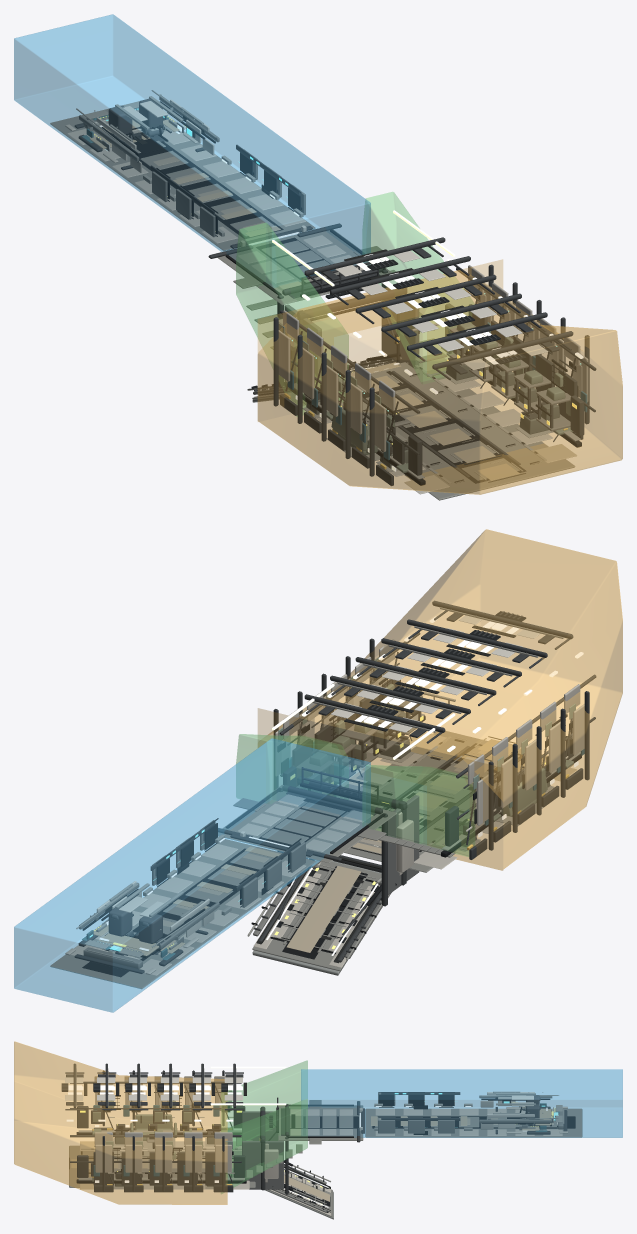
Rendered from prototype_shuttle_interior.glb.
3 renders of one model, top to bottom at view 1: azimuth 30°, elevation 25°; view 2: azimuth 150°, elevation 25°; view 3: azimuth 270°, elevation 25°, orthographic. The views are drawn at different scales.
Parts seen in each view (by area): view 1: VOLUME_LowerBellyCargoPrismaticEnvelope, VOLUME_RaisedForwardCockpitDeckEnvelope, VOLUME_LeftCargoToCockpitTransitionPrism, VOLUME_RightCargoToCockpitTransitionPrism, SDP1_CargoFloor_SolidDeckBase, SDP1_CockpitFloor_SolidDeckBase, SDP1_CockpitFloor_TransitionSolidDeck, SDP1_CargoFloor_SolidDeckCenterInsetBase, SDP1_CockpitFloor_SolidDeckCenterInsetBase, ForwardRampApertureRightFrame, SDP1_RampDoor_UpperLintel, SDP1_CargoCeiling_CrossRib_04 (+5 smaller); view 2: VOLUME_LowerBellyCargoPrismaticEnvelope, VOLUME_RaisedForwardCockpitDeckEnvelope, VOLUME_LeftCargoToCockpitTransitionPrism, VOLUME_RightCargoToCockpitTransitionPrism, SDP1_CockpitFloor_SolidDeckBase, SDP1_CargoFloor_SolidDeckBase, SDP1_Iter3_Ramp_BroadWarmWearLane, SDP1_CockpitFloor_TransitionSolidDeck, SDP1_Ramp_MainSolidDeck, ForwardRampApertureLeftFrame, SDP1_CockpitFloor_SolidDeckCenterInsetBase, SDP1_CargoCeiling_CrossRib_02 (+9 smaller); view 3: VOLUME_LowerBellyCargoPrismaticEnvelope, VOLUME_RaisedForwardCockpitDeckEnvelope, VOLUME_RightCargoToCockpitTransitionPrism, VOLUME_LeftCargoToCockpitTransitionPrism, SDP1_CockpitFloor_SolidDeckBase, ForwardRampApertureRightFrame, SDP1_CockpitFloor_TransitionSolidDeck, ForwardRampApertureLeftFrame, SDP1_CargoFloor_SolidDeckBase, SDP1_CockpitFloor_SolidDeckCenterInsetBase, SDP1_CargoWall_RightInsetPanel_00, SDP1_CargoWall_RightInsetPanel_02 (+16 smaller).
Part boxes in pixels (x1=…): VOLUME_LowerBellyCargoPrismaticEnvelope: x1=257, y1=259, x2=622, y2=494; VOLUME_RaisedForwardCockpitDeckEnvelope: x1=14, y1=14, x2=370, y2=287; VOLUME_LeftCargoToCockpitTransitionPrism: x1=236, y1=222, x2=348, y2=416; VOLUME_RightCargoToCockpitTransitionPrism: x1=362, y1=192, x2=474, y2=383; SDP1_CargoFloor_SolidDeckBase: x1=290, y1=362, x2=574, y2=500; SDP1_CockpitFloor_SolidDeckBase: x1=50, y1=101, x2=315, y2=250; SDP1_CockpitFloor_TransitionSolidDeck: x1=217, y1=229, x2=391, y2=305; SDP1_CargoFloor_SolidDeckCenterInsetBase: x1=362, y1=371, x2=525, y2=483; SDP1_CockpitFloor_SolidDeckCenterInsetBase: x1=86, y1=118, x2=283, y2=238; ForwardRampApertureRightFrame: x1=382, y1=283, x2=419, y2=368; SDP1_RampDoor_UpperLintel: x1=297, y1=288, x2=406, y2=319; SDP1_CargoCeiling_CrossRib_04: x1=407, y1=312, x2=547, y2=350; VOLUME_LowerBellyCargoPrismaticEnvelope: x1=258, y1=529, x2=622, y2=870; VOLUME_RaisedForwardCockpitDeckEnvelope: x1=14, y1=738, x2=370, y2=1012; VOLUME_LeftCargoToCockpitTransitionPrism: x1=362, y1=764, x2=474, y2=856; VOLUME_RightCargoToCockpitTransitionPrism: x1=236, y1=734, x2=348, y2=803; SDP1_CockpitFloor_SolidDeckBase: x1=50, y1=839, x2=315, y2=989; SDP1_CargoFloor_SolidDeckBase: x1=344, y1=731, x2=573, y2=872; SDP1_Iter3_Ramp_BroadWarmWearLane: x1=286, y1=866, x2=361, y2=952; SDP1_CockpitFloor_TransitionSolidDeck: x1=218, y1=785, x2=396, y2=863; SDP1_Ramp_MainSolidDeck: x1=252, y1=861, x2=381, y2=971; ForwardRampApertureLeftFrame: x1=388, y1=795, x2=419, y2=894; SDP1_CockpitFloor_SolidDeckCenterInsetBase: x1=82, y1=848, x2=283, y2=977; SDP1_CargoCeiling_CrossRib_02: x1=355, y1=657, x2=496, y2=695; VOLUME_LowerBellyCargoPrismaticEnvelope: x1=14, y1=1041, x2=227, y2=1204; VOLUME_RaisedForwardCockpitDeckEnvelope: x1=301, y1=1069, x2=622, y2=1137; VOLUME_RightCargoToCockpitTransitionPrism: x1=221, y1=1099, x2=307, y2=1193; VOLUME_LeftCargoToCockpitTransitionPrism: x1=221, y1=1060, x2=307, y2=1149; SDP1_CockpitFloor_SolidDeckBase: x1=365, y1=1108, x2=582, y2=1137; ForwardRampApertureRightFrame: x1=242, y1=1141, x2=283, y2=1189; SDP1_CockpitFloor_TransitionSolidDeck: x1=278, y1=1105, x2=363, y2=1140; ForwardRampApertureLeftFrame: x1=242, y1=1111, x2=278, y2=1140; SDP1_CargoFloor_SolidDeckBase: x1=69, y1=1146, x2=255, y2=1187; SDP1_CockpitFloor_SolidDeckCenterInsetBase: x1=372, y1=1116, x2=575, y2=1128; SDP1_CargoWall_RightInsetPanel_00: x1=215, y1=1144, x2=231, y2=1172; SDP1_CargoWall_RightInsetPanel_02: x1=155, y1=1144, x2=172, y2=1172.
Bounding box in the file's own units: 8.86 × 8.05 × 30.52.
